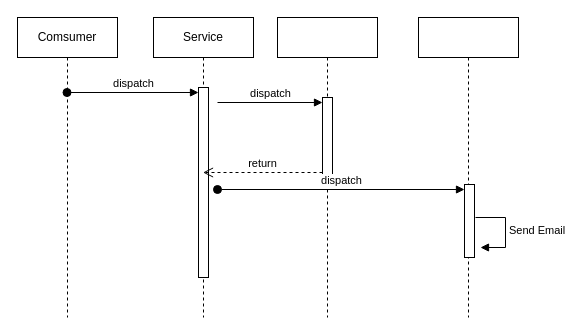
Image size: 583x335. Some labels were removed from this diagram. Each missing label, with the centre of its shape:
Email Sender: point (468, 167)
Repository: point (327, 167)
